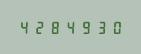eight: (47, 20, 61, 34)
four: (17, 20, 31, 34), (62, 20, 76, 34)
nine: (77, 20, 91, 34)
three: (92, 20, 106, 34)
two: (32, 20, 46, 34)
zero: (107, 20, 121, 34)
